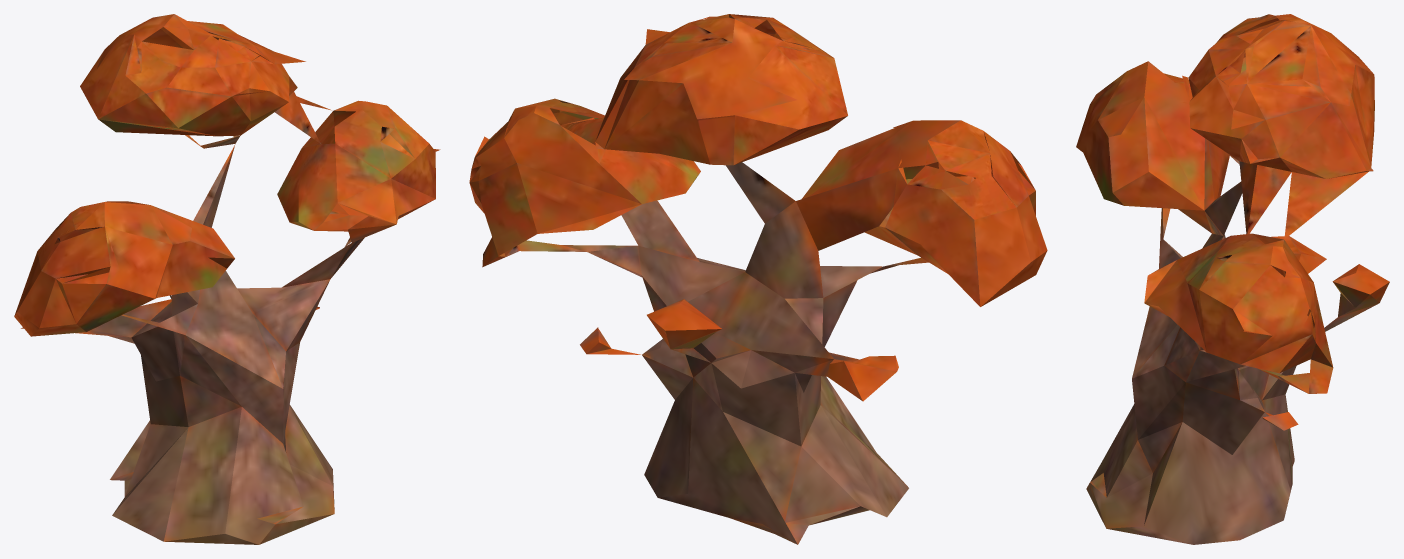
Rendered from tree-oak-lod.glb.
3 renders of one model, left to right at view 1: azimuth 30°, elevation 25°; view 2: azimuth 150°, elevation 25°; view 3: azimuth 270°, elevation 25°, orthographic. The views are drawn at different scales.
Parts seen in each view (by area): view 1: output_unwrapped; view 2: output_unwrapped; view 3: output_unwrapped.
Part boxes in pixels (left/top/right/bottom): output_unwrapped: left=14, top=14, right=440, bottom=544; output_unwrapped: left=469, top=14, right=1047, bottom=544; output_unwrapped: left=1076, top=14, right=1389, bottom=544.
Size of the model in its own units: 7.84 by 7.5 by 4.49.
Materials: 1 (1 with a texture image).
